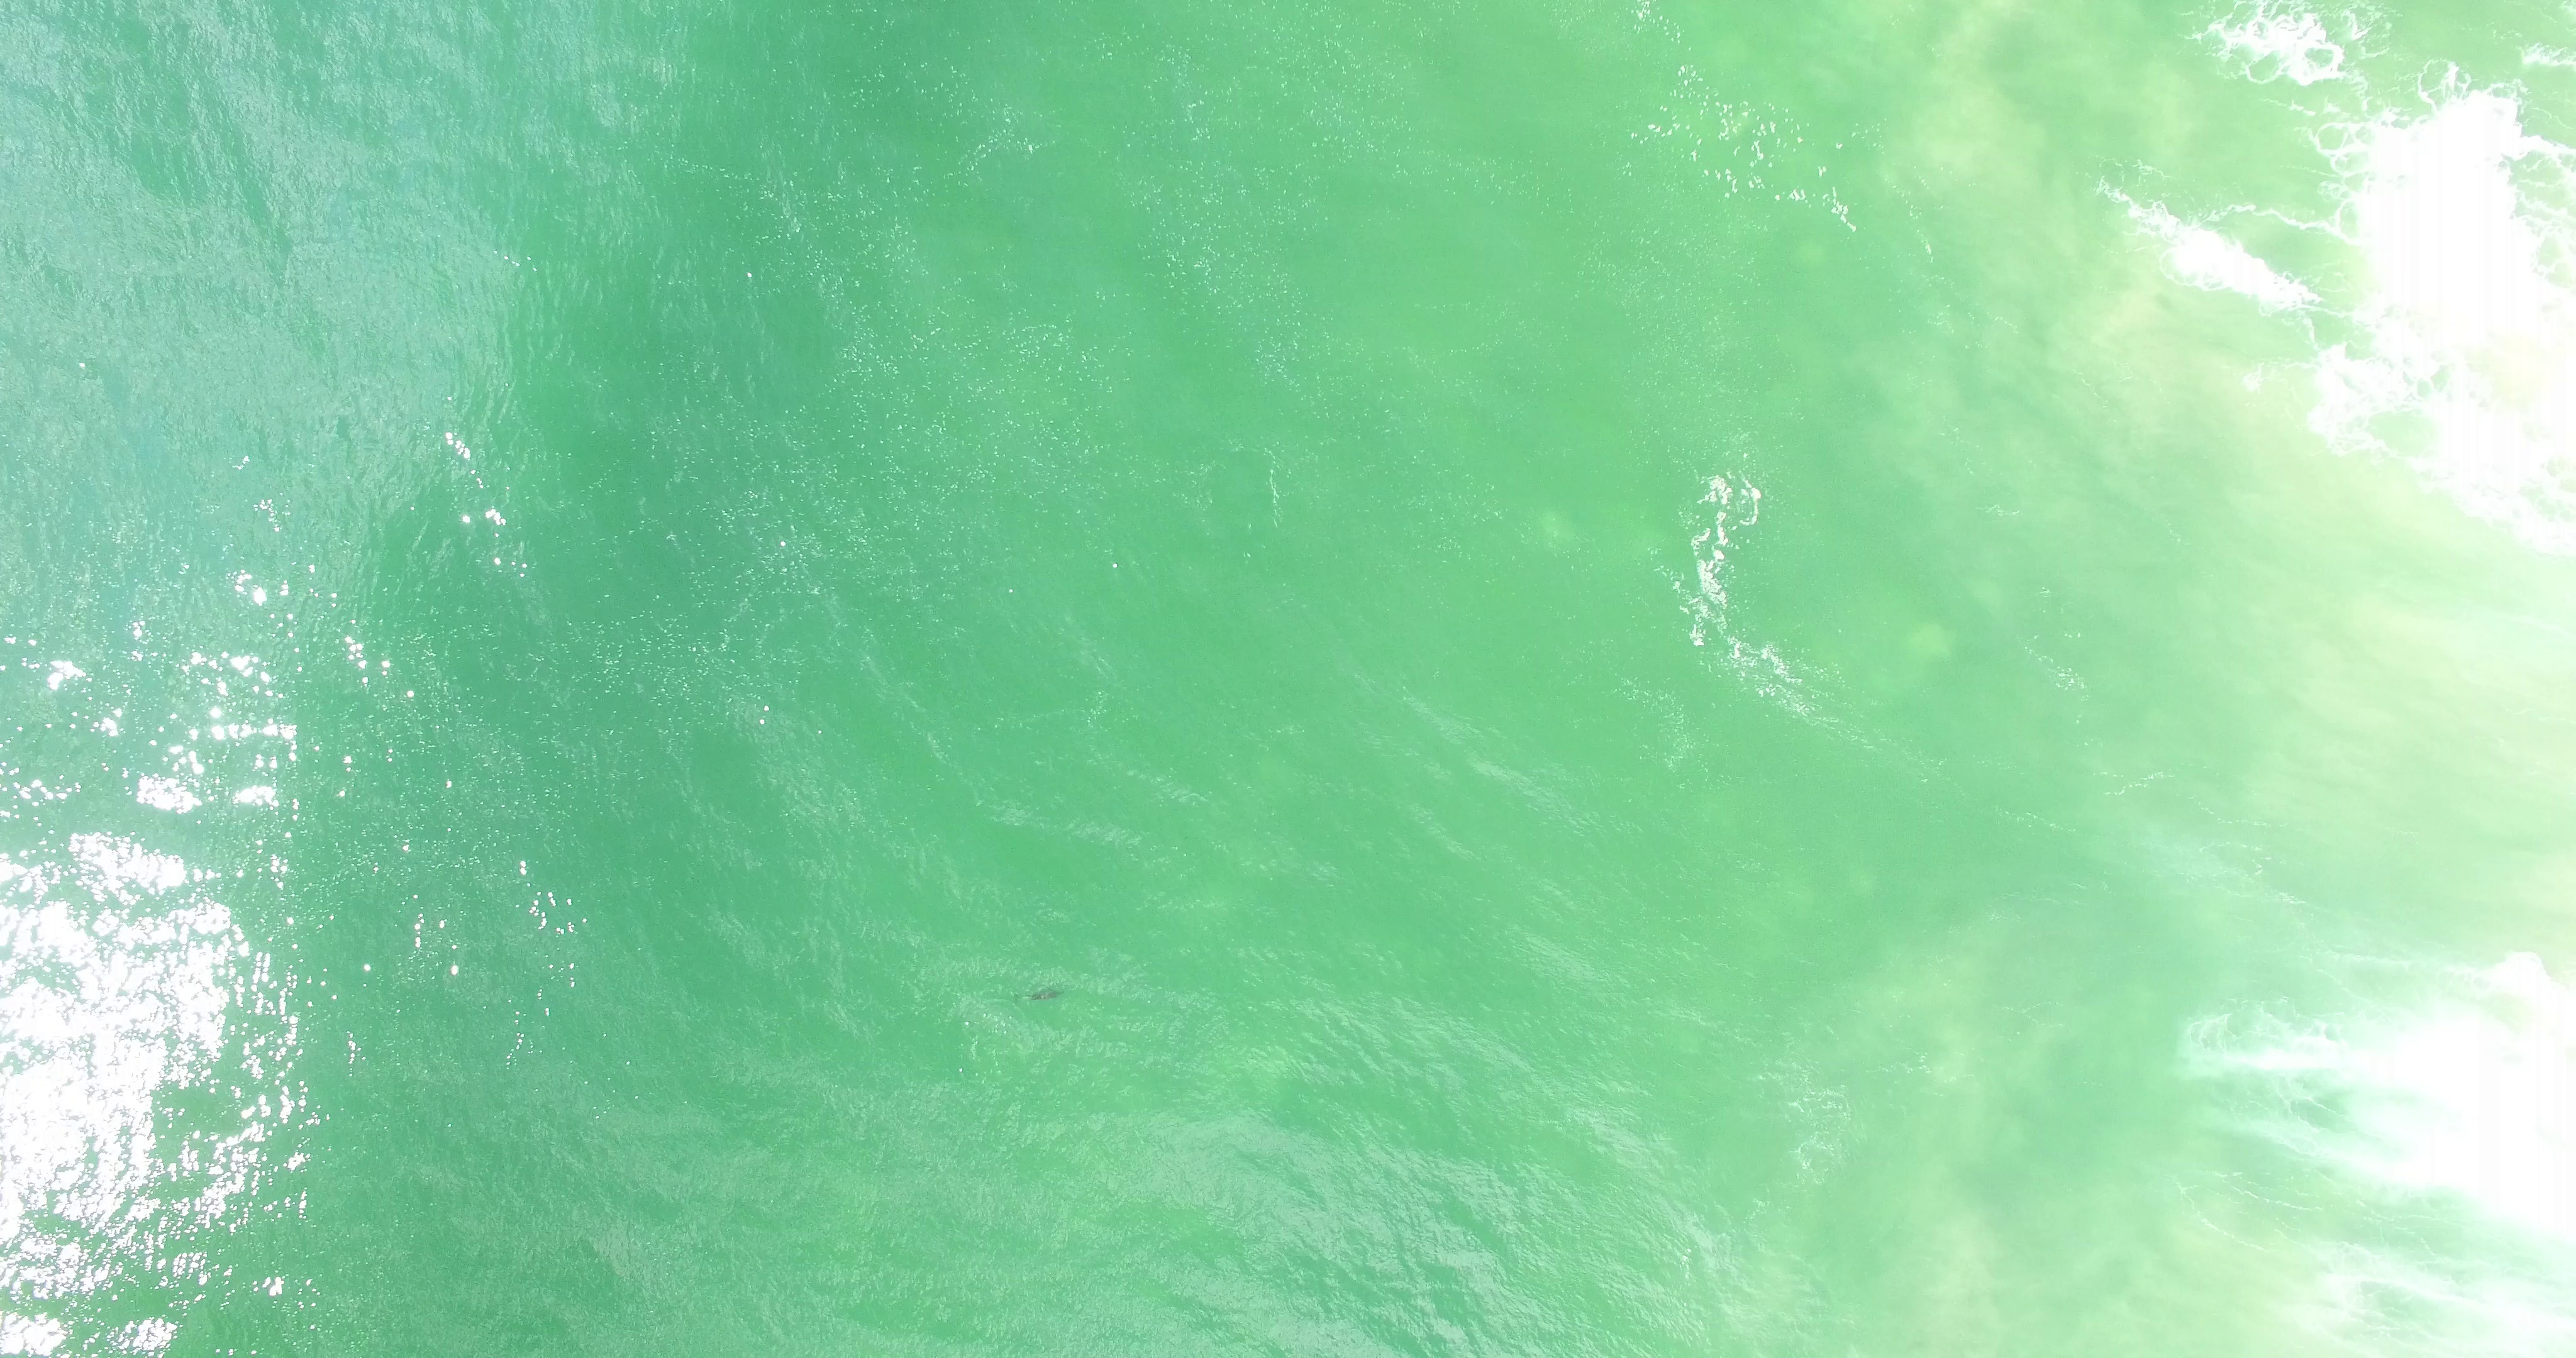dolphin: (1014, 987, 1061, 1005)
